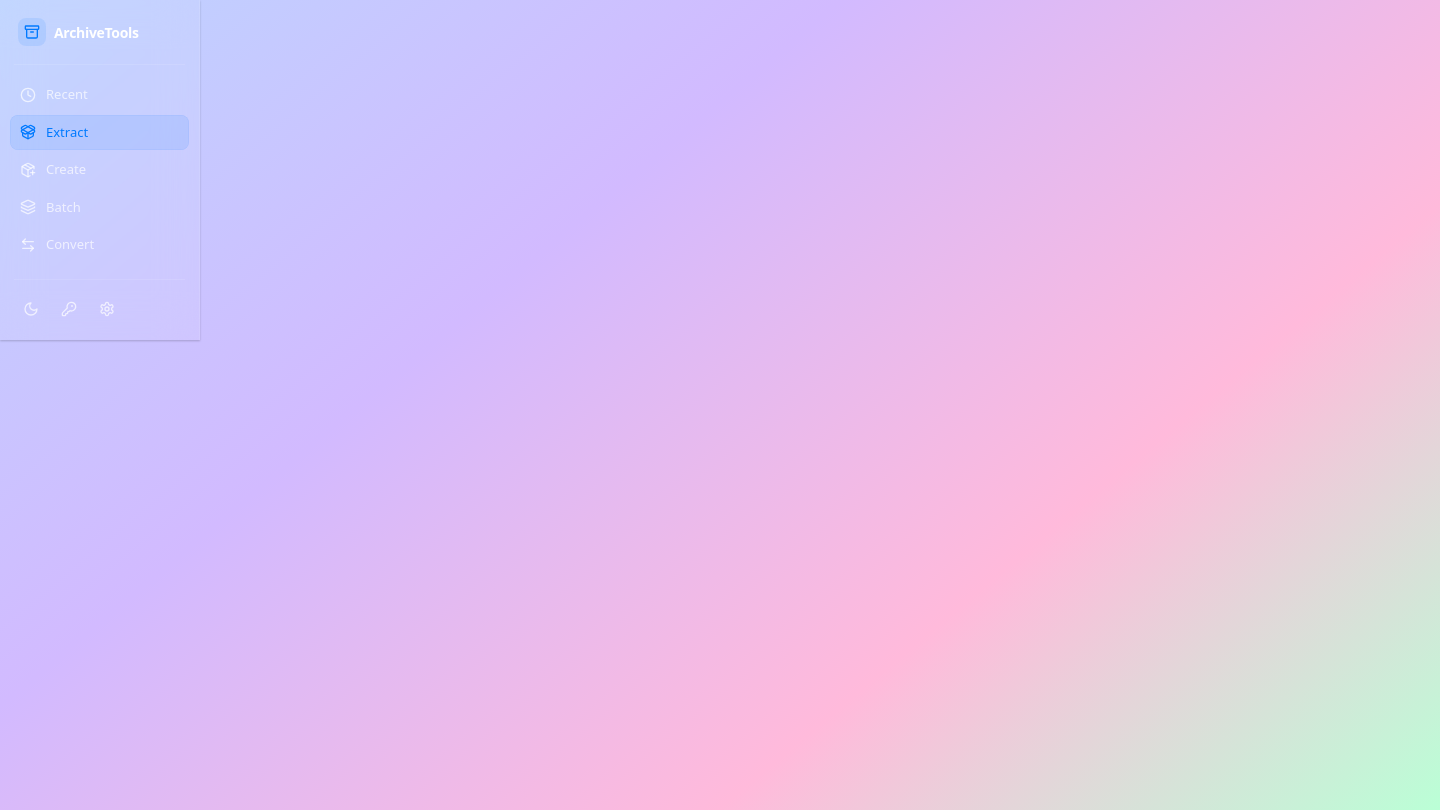
Scenario: Sidebar › password key icon opens PasswordManager
What coordinates should you click on to do the following:
click the button titled "Saved Passwords"
I would click on:
 (69, 308)
Its box is [52, 292, 86, 326].
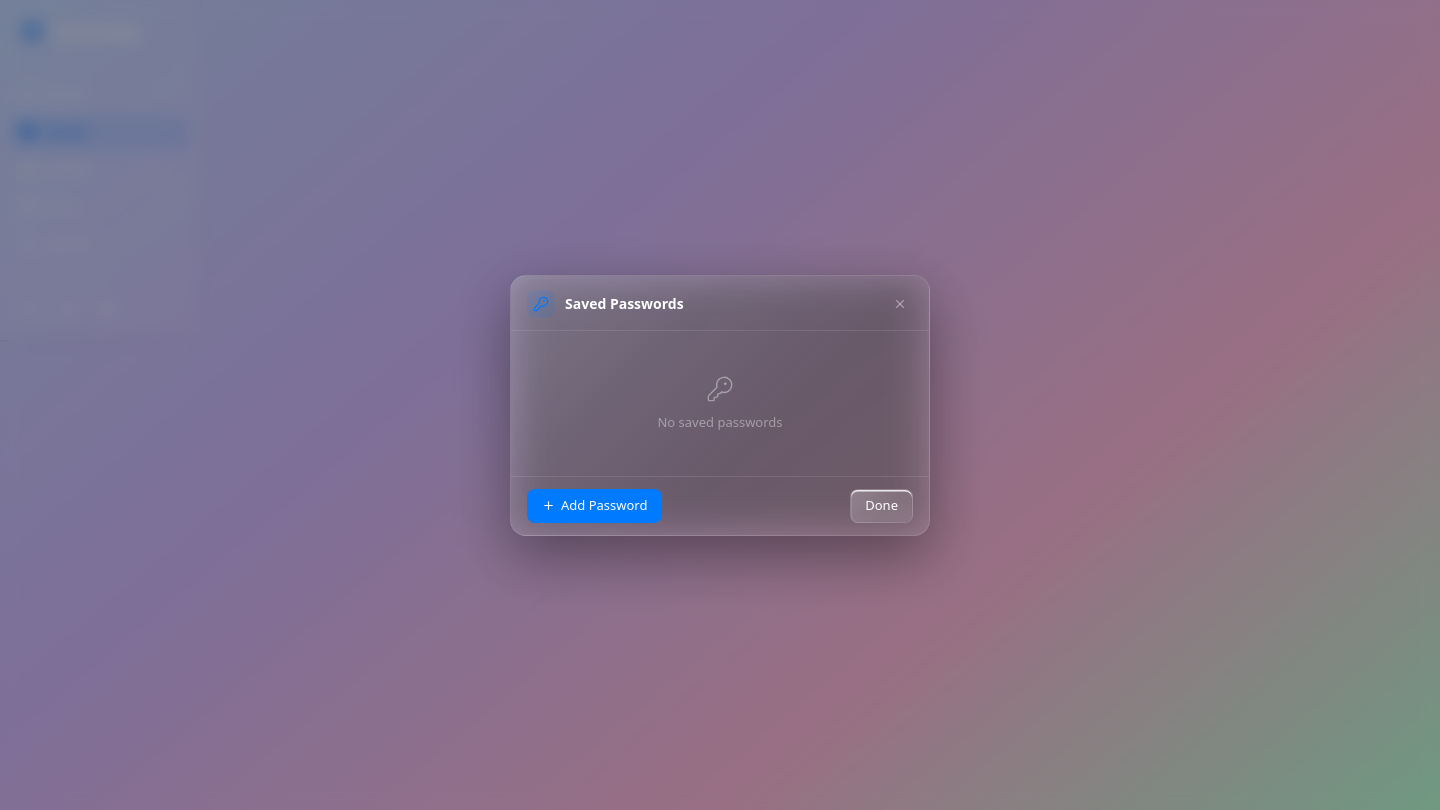
Now the text "Saved Passwords" is shown, box [565, 294, 684, 313]
